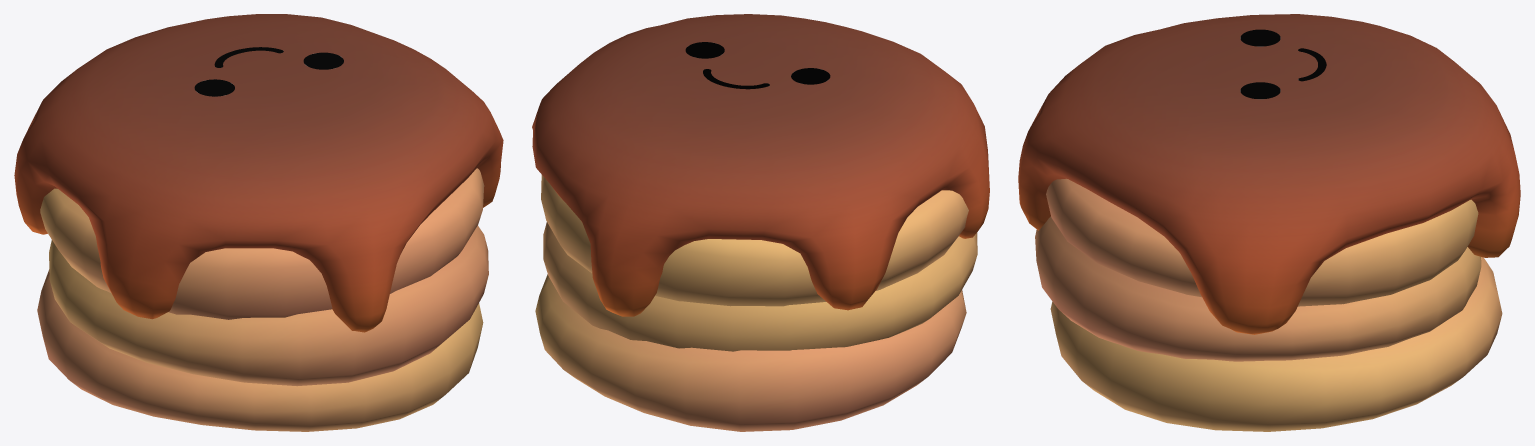
Rendered from cake_smile.fbx.
The picture shows the model from 3 angles, left to right: view 1: azimuth 30°, elevation 25°; view 2: azimuth 150°, elevation 25°; view 3: azimuth 270°, elevation 25°; orthographic projection. The views are drawn at different scales.
Parts seen in each view (by area): view 1: cake_smile; view 2: cake_smile; view 3: cake_smile.
Part boxes in pixels (x1,y1,x2,y2): cake_smile: (14, 14, 503, 431); cake_smile: (532, 14, 989, 431); cake_smile: (1018, 14, 1520, 431).
Bounding box in the file's own units: 141 × 93.64 × 148.
